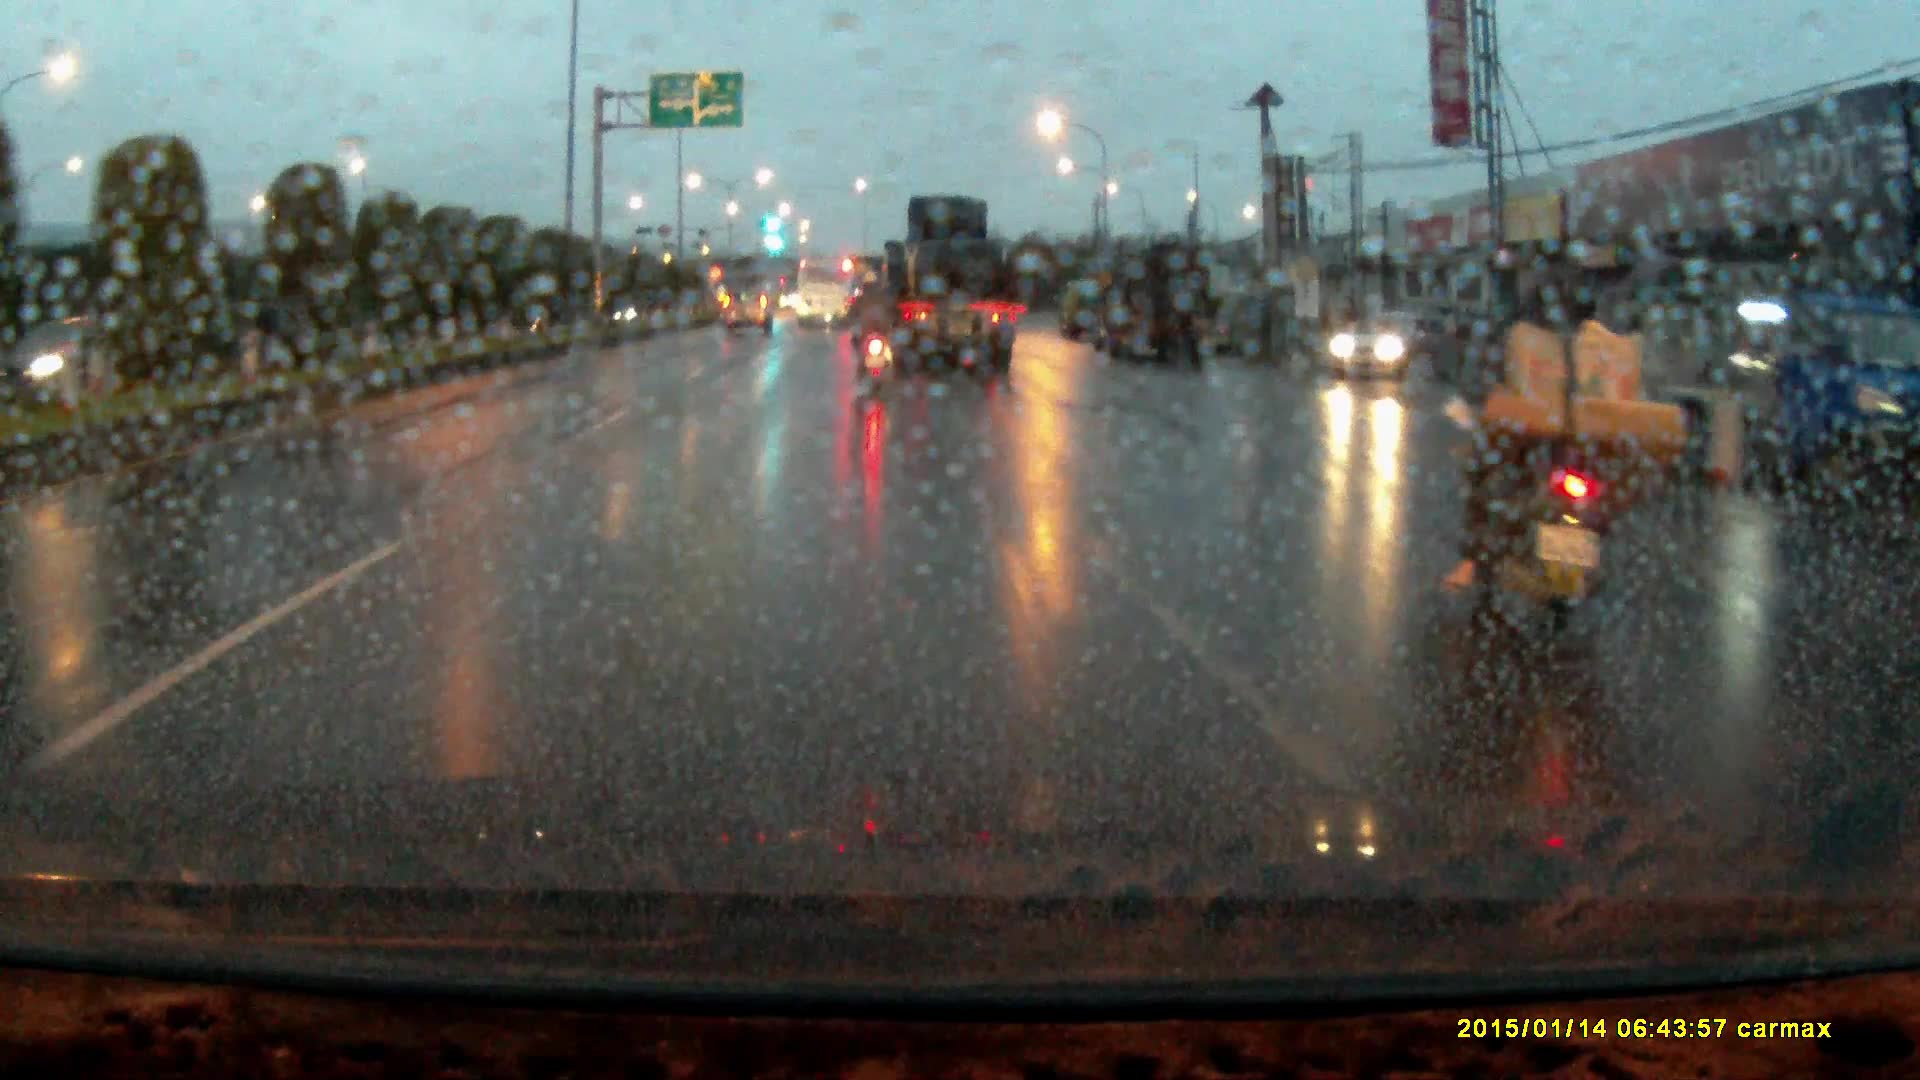rider: (1441, 249, 1704, 668), (848, 266, 903, 387)
vehicle: (1636, 293, 1920, 487), (871, 196, 1010, 374), (1100, 245, 1222, 369), (1325, 311, 1441, 382), (796, 258, 857, 330), (1057, 279, 1111, 340), (722, 284, 776, 336)
